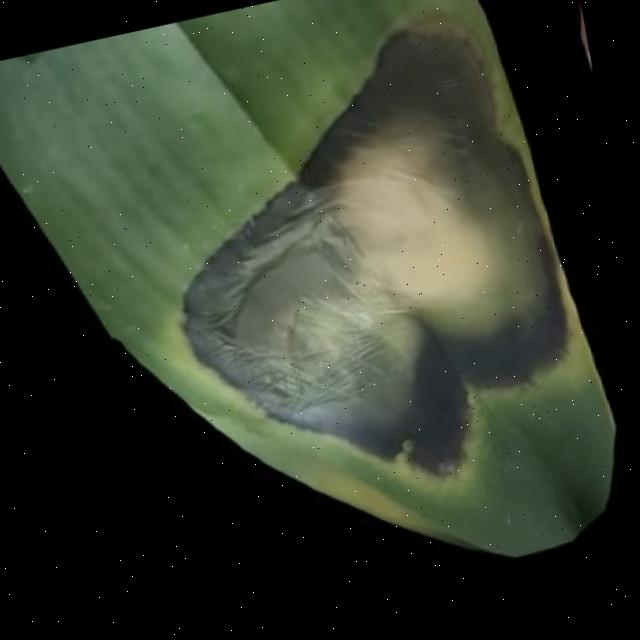mite: (163, 159, 426, 449), (374, 318, 490, 489), (451, 279, 581, 398), (394, 420, 478, 488), (396, 430, 427, 468), (16, 50, 49, 67)
sunburn: (135, 0, 603, 534)
